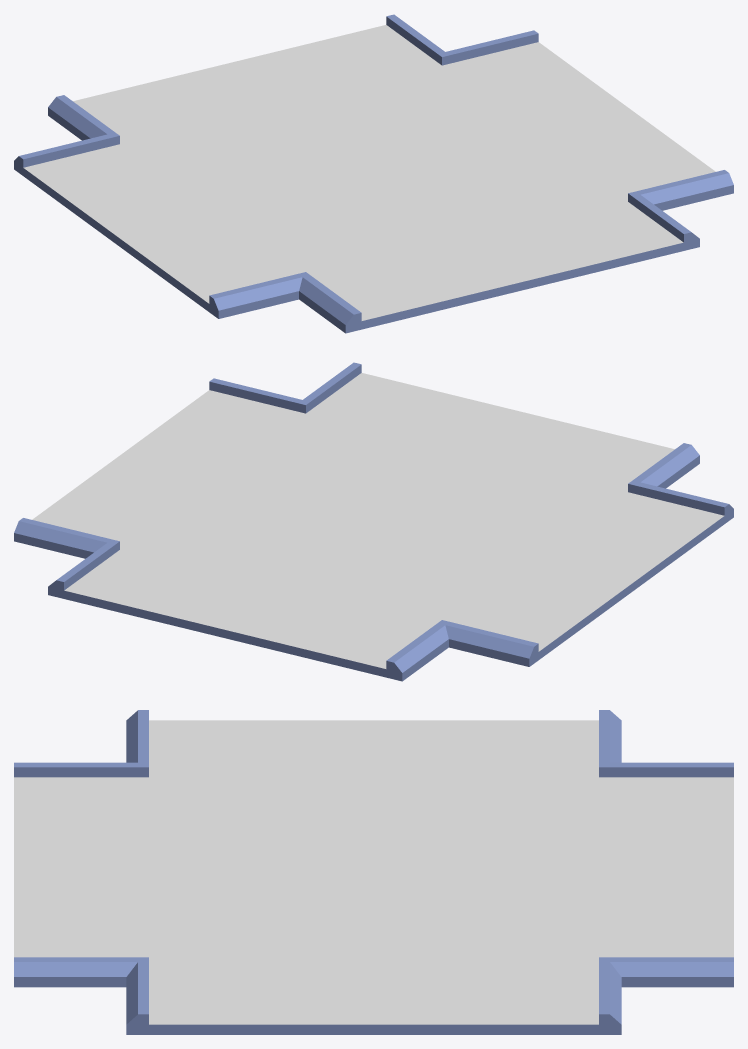
File: tile-cross.glb
3 views of the same model, one above another, from view 1: azimuth 30°, elevation 25°; view 2: azimuth 150°, elevation 25°; view 3: azimuth 270°, elevation 25° (orthographic). The views are drawn at different scales.
Parts seen in each view (by area): view 1: tile-cross; view 2: tile-cross; view 3: tile-cross.
Boxes of the visible parts, x1,y1,x2,y2 form: tile-cross: [14, 14, 733, 333]; tile-cross: [14, 362, 733, 681]; tile-cross: [14, 710, 733, 1034].
Size of the model in its own units: 16 by 0.5 by 16.
